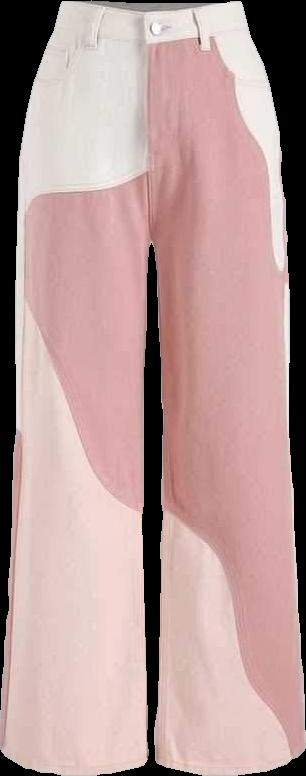Hemline: (154, 743, 305, 775), (0, 744, 151, 775)
Pantleg: (143, 2, 305, 774), (0, 1, 151, 775)
Waistline: (50, 23, 248, 48), (56, 0, 242, 17)
